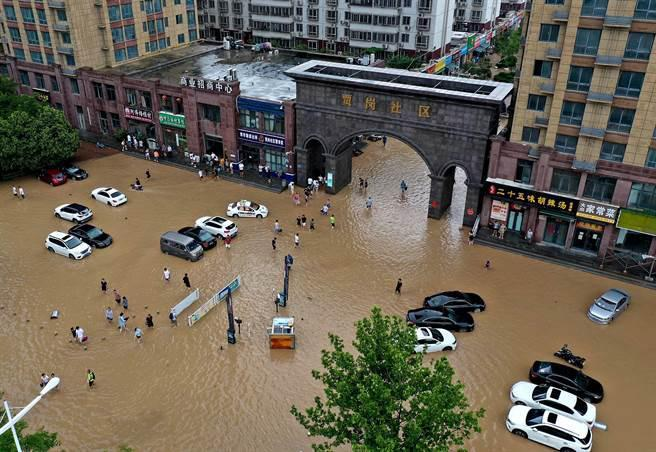water: (278, 178, 654, 451), (2, 185, 322, 451), (44, 160, 294, 326), (197, 217, 292, 348), (3, 152, 158, 220), (352, 138, 428, 212), (434, 167, 465, 229)
